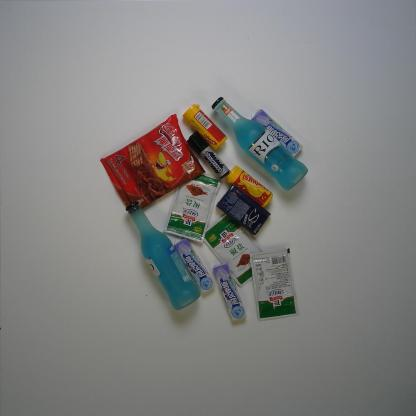Alcohol: (211, 94, 308, 190), (123, 198, 201, 312)
Candy: (250, 106, 302, 158), (174, 233, 214, 293), (182, 100, 229, 150), (213, 258, 246, 323), (226, 165, 272, 207)
Dessert: (98, 112, 208, 218)
Gum: (214, 184, 271, 235)
Seasoner: (200, 212, 268, 288), (161, 168, 222, 244), (249, 246, 301, 322)
Stationery: (185, 130, 228, 180)
